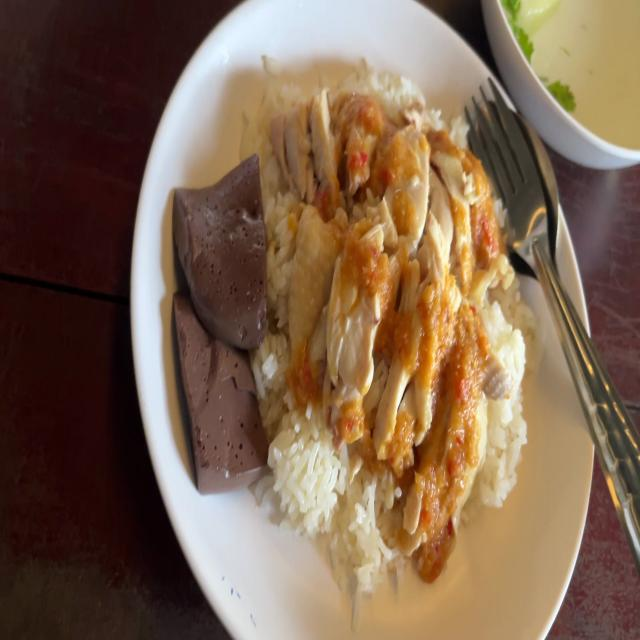boiled_chicken: (284, 95, 501, 488)
boiled_chicken_blood_jelly: (173, 155, 266, 353), (173, 304, 260, 496)
chicken_rice: (172, 51, 546, 592)
